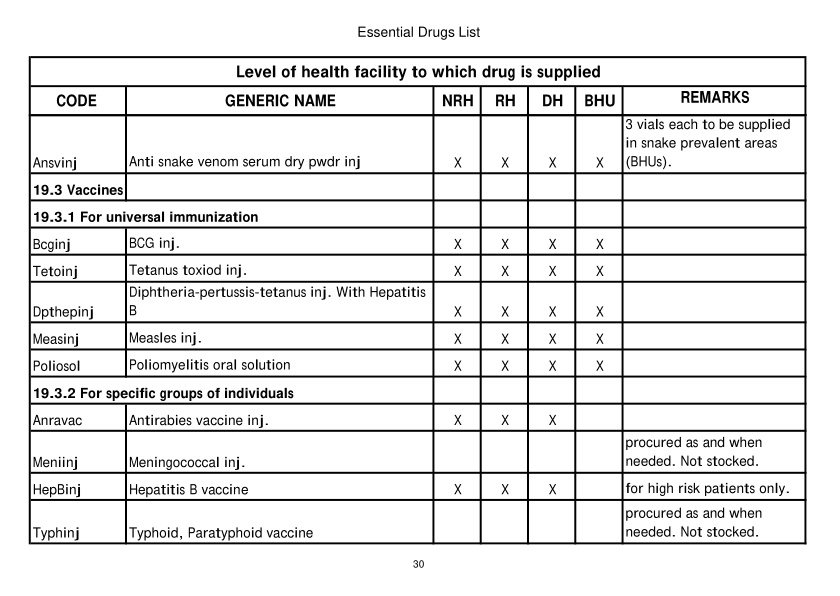merged_cells: (28, 55, 808, 546)
